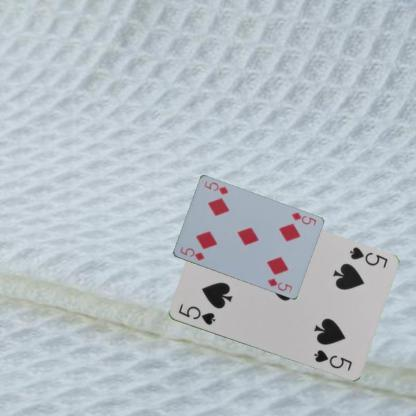5d: (177, 244, 206, 262), (289, 210, 317, 227)
5s: (347, 244, 389, 270), (176, 302, 216, 326)
